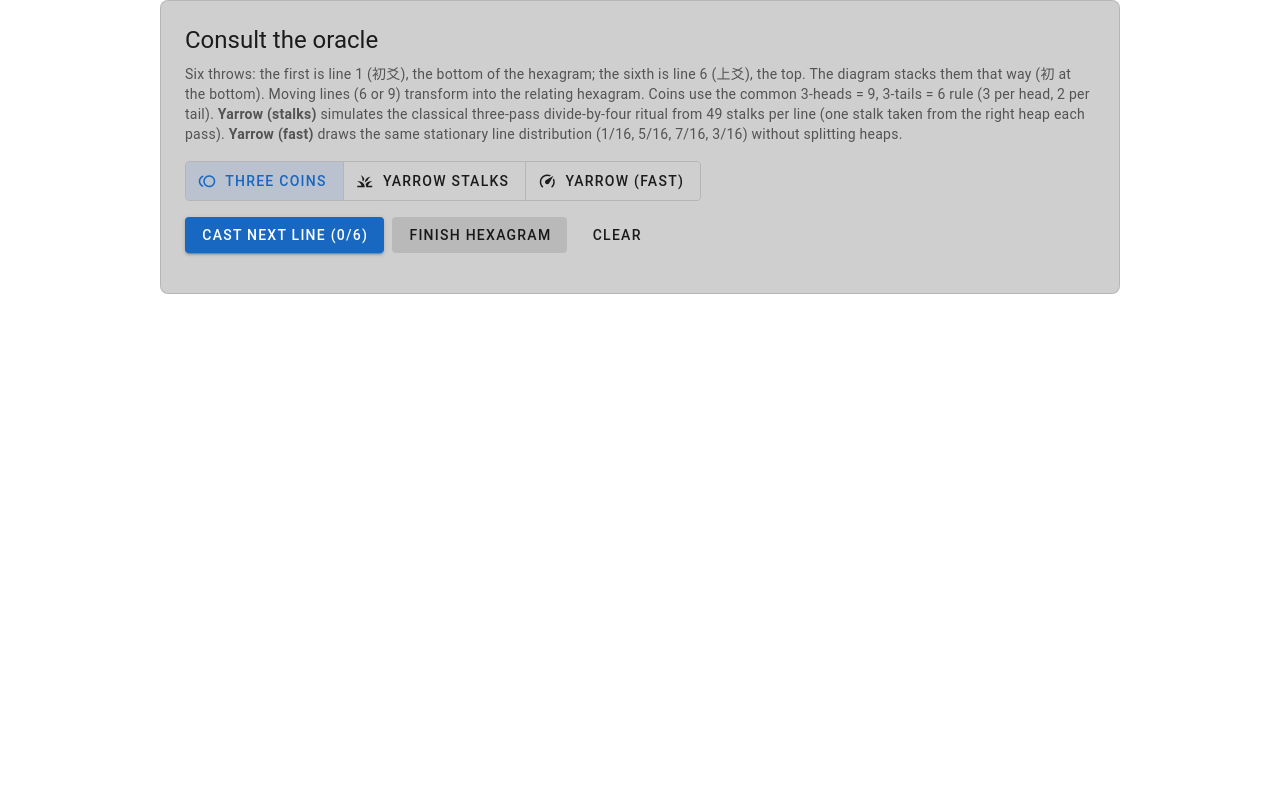
Test: IChingOracle.vue (smoke) › clears lines when Clear is used
Click the button "Finish hexagram" at {"x": 480, "y": 235}, box [392,217,567,253]
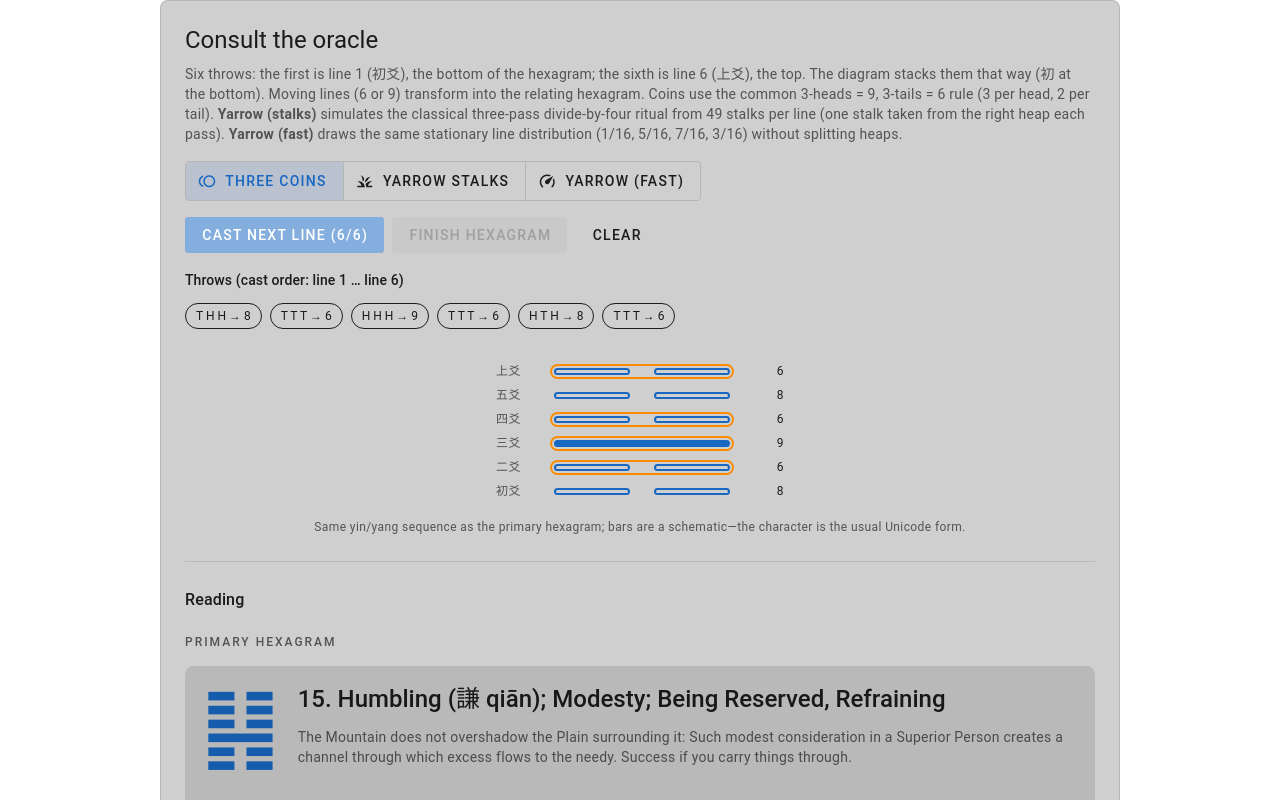
Click the button "Clear" at {"x": 616, "y": 235}, box [575,217,658,253]
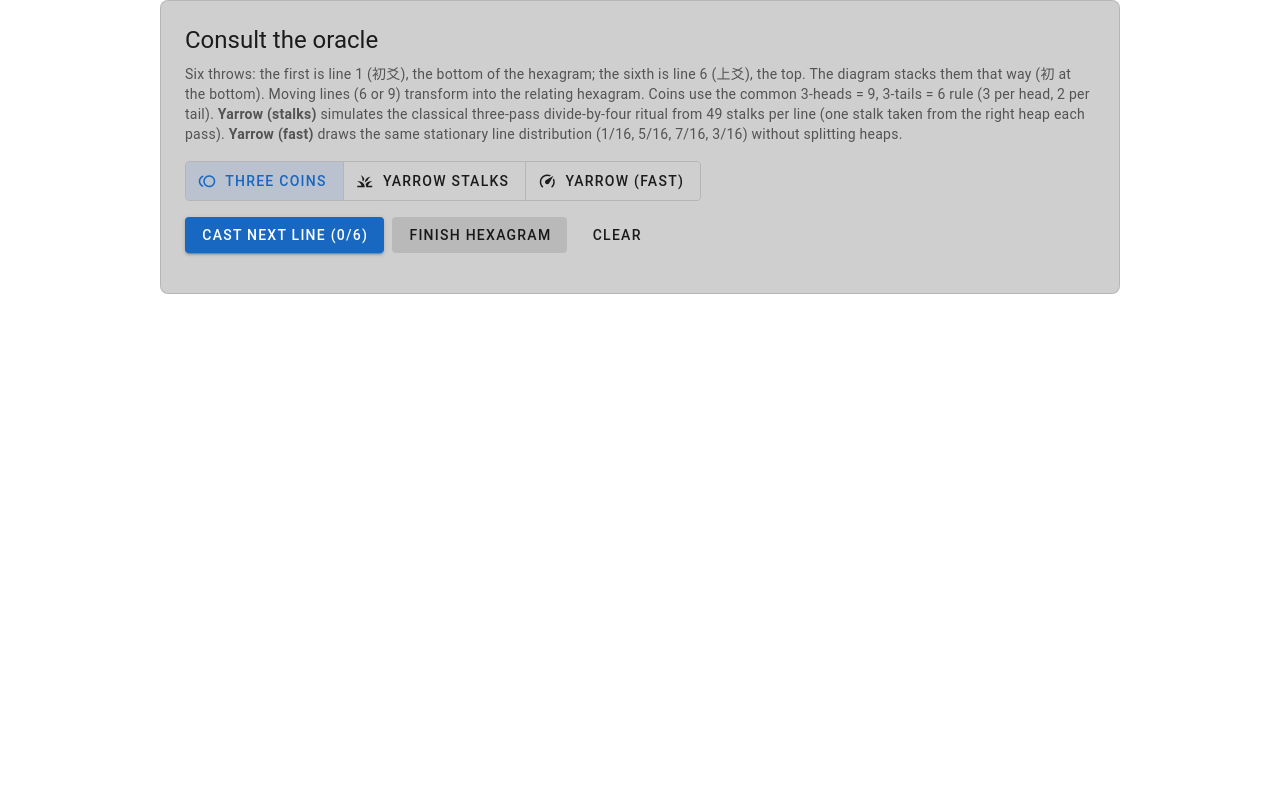
expect the text "primary hexagram" is gone: met
